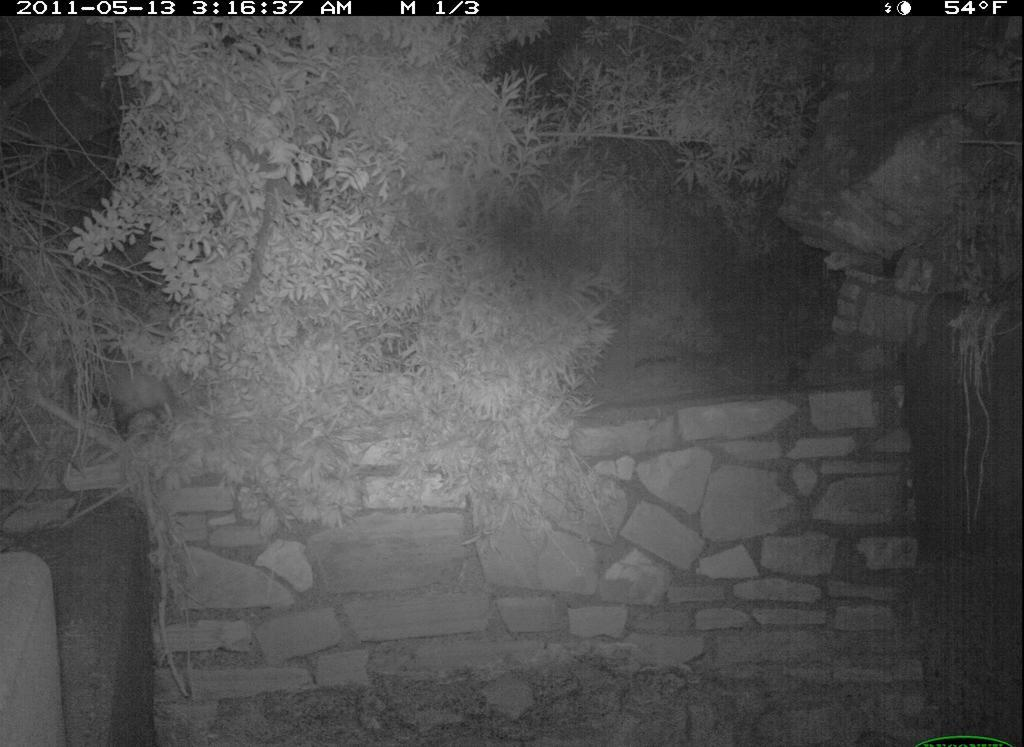opossum: (84, 341, 209, 478)
